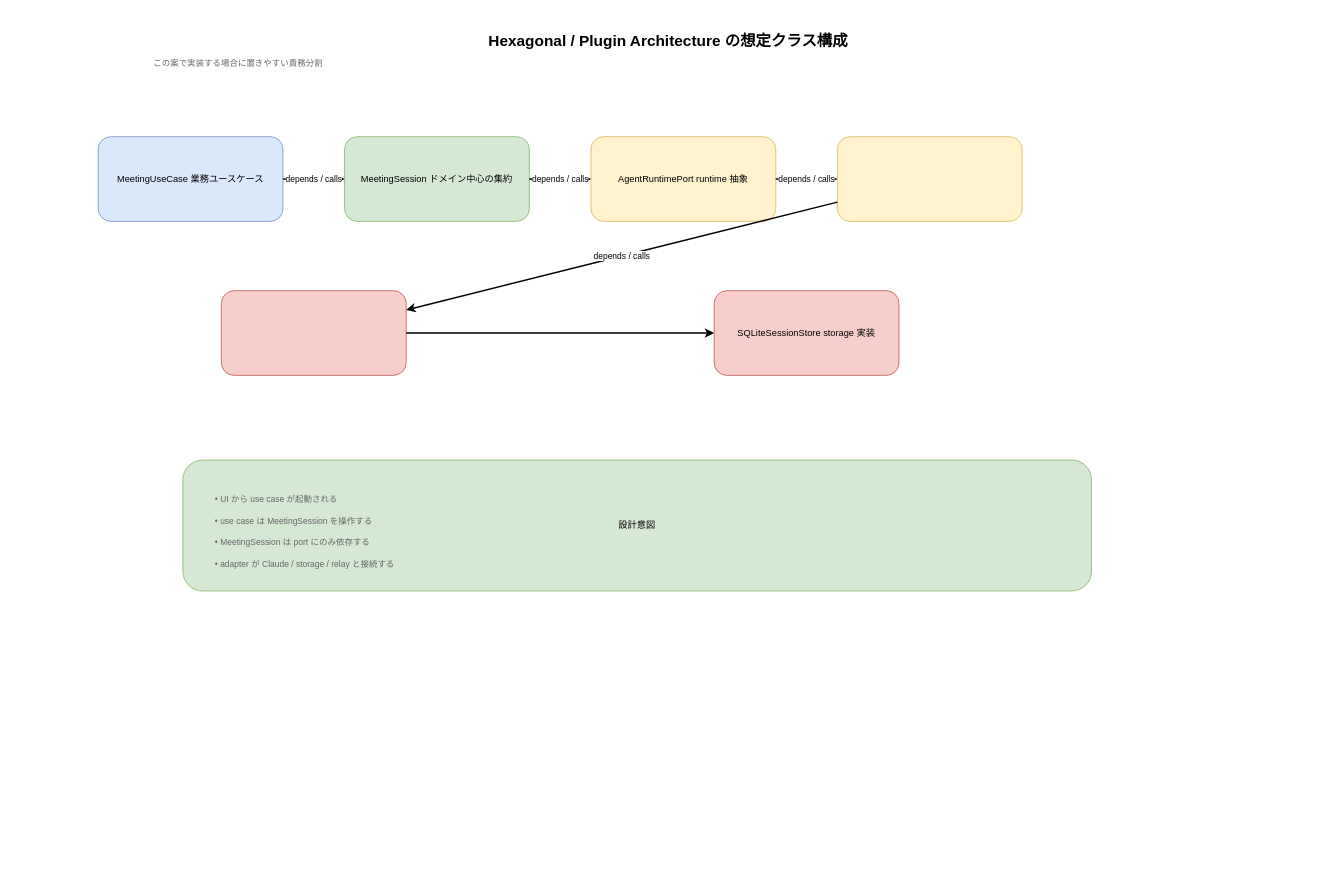
The diagram is 1335 pixels wide and 873 high, and some of its shapes have lost their labels. The centre of each missing label's shape, as x and y in pixels:
ClaudeCodePtyAdapter runtime 実装: [313,332]
SessionStorePort 永続化抽象: [929,178]
